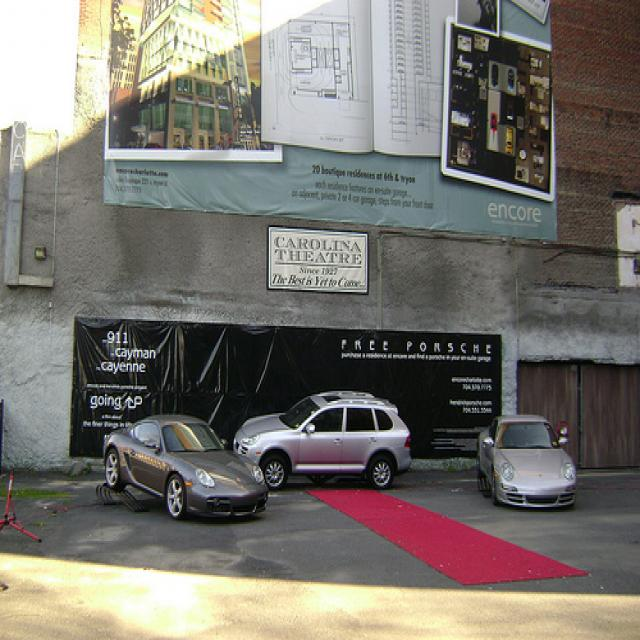Car: (232, 390, 412, 487)
